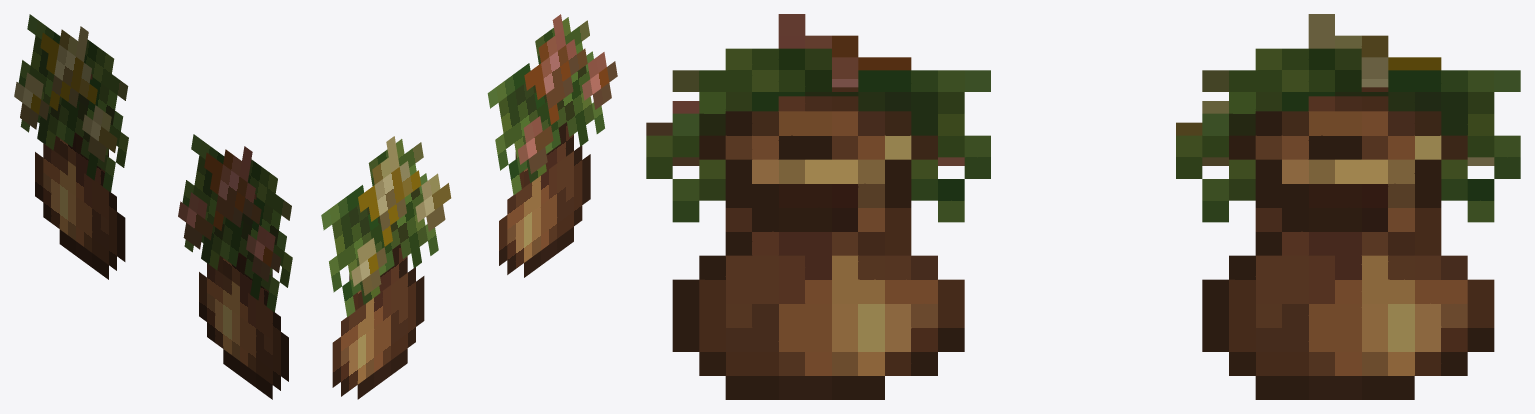
File: ObjMD_Flowerpots_B_red.FBX
3 views of the same model, side by side, from view 1: azimuth 30°, elevation 25°; view 2: azimuth 150°, elevation 25°; view 3: azimuth 270°, elevation 25° (orthographic). The views are drawn at different scales.
Visible parts, largest first — view 1: ObjMD_Flowerpots_B_white, ObjMD_Flowerpots_B_red; view 2: ObjMD_Flowerpots_B_white, ObjMD_Flowerpots_B_red; view 3: ObjMD_Flowerpots_B_red, ObjMD_Flowerpots_B_white.
Boxes of the visible parts, bbox=[...] form: ObjMD_Flowerpots_B_white: bbox=[14, 14, 128, 279]; ObjMD_Flowerpots_B_red: bbox=[178, 134, 292, 399]; ObjMD_Flowerpots_B_white: bbox=[321, 136, 451, 399]; ObjMD_Flowerpots_B_red: bbox=[487, 14, 617, 277]; ObjMD_Flowerpots_B_red: bbox=[646, 14, 990, 399]; ObjMD_Flowerpots_B_white: bbox=[1176, 14, 1520, 399].
Bounding box in the file's own units: 12.67 × 99.59 × 206.
